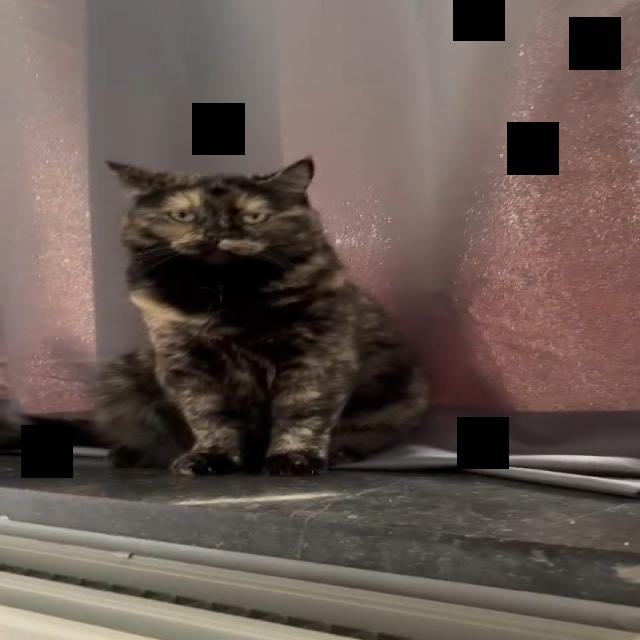authorized: (88, 154, 432, 477)
